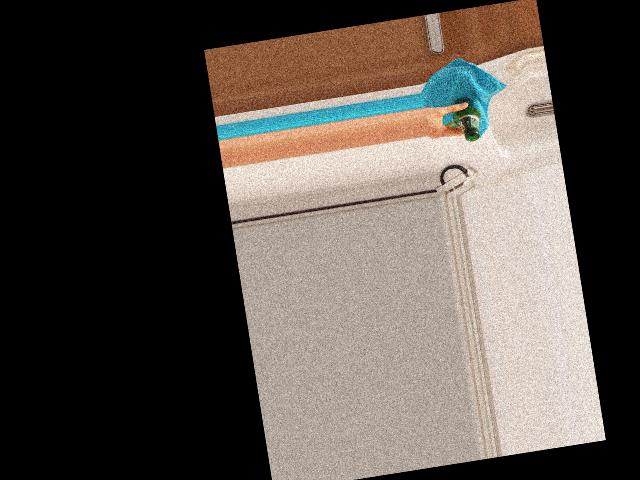beer: (451, 94, 483, 142)
